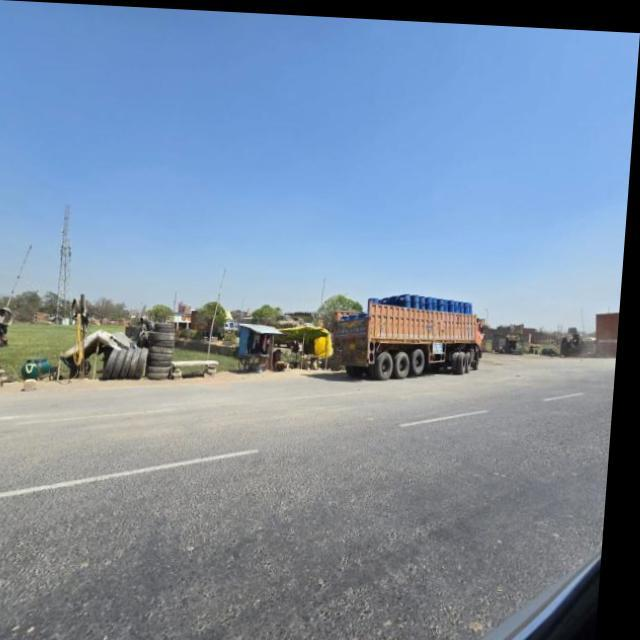uncovered: (344, 284, 492, 393)
